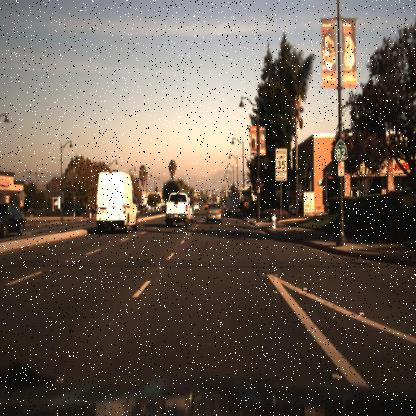car: (89, 158, 140, 236), (0, 202, 28, 241), (163, 195, 194, 226), (224, 186, 242, 219), (201, 201, 226, 222)
truck: (92, 168, 136, 236), (225, 192, 241, 217)
